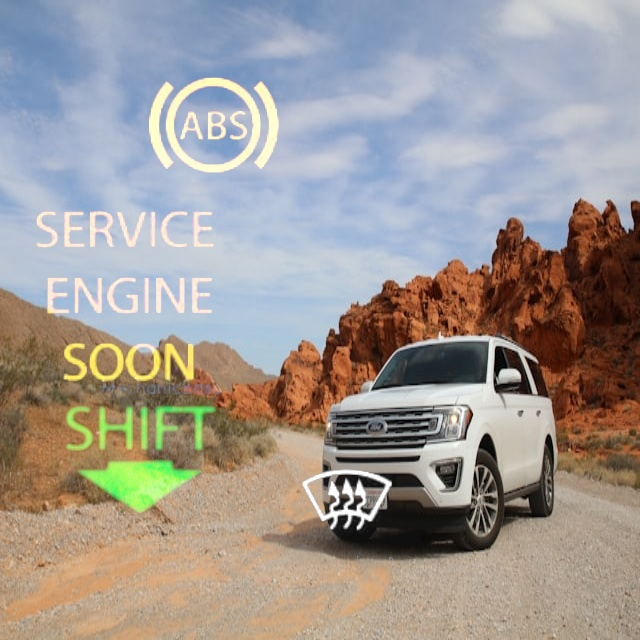symbol: (17, 192, 230, 405), (38, 355, 237, 554), (121, 35, 305, 219), (275, 428, 421, 574)
